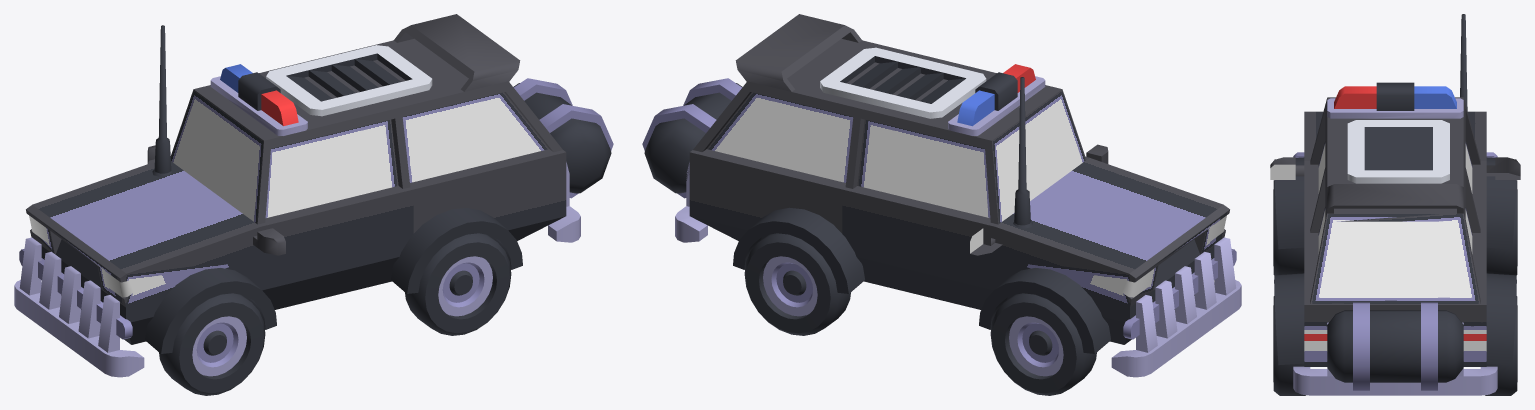
The model's file is police-suv-final.glb.
The picture shows the model from 3 angles, left to right: view 1: azimuth 30°, elevation 25°; view 2: azimuth 150°, elevation 25°; view 3: azimuth 270°, elevation 25°; orthographic projection. The views are drawn at different scales.
Parts seen in each view (by area): view 1: body, wheel-front-left, wheel-back-left; view 2: body, wheel-front-right, wheel-back-right; view 3: body, wheel-front-right, wheel-front-left, wheel-back-right, wheel-back-left.
Boxes of the visible parts, left/top/right/bottom form: body: left=14, top=14, right=613, bottom=377; wheel-front-left: left=159, top=293, right=265, bottom=395; wheel-back-left: left=405, top=233, right=511, bottom=335; body: left=642, top=14, right=1241, bottom=377; wheel-front-right: left=990, top=293, right=1096, bottom=395; wheel-back-right: left=744, top=233, right=850, bottom=335; body: left=1270, top=14, right=1520, bottom=395; wheel-front-right: left=1486, top=180, right=1517, bottom=275; wheel-front-left: left=1273, top=180, right=1304, bottom=275; wheel-back-right: left=1485, top=296, right=1517, bottom=395; wheel-back-left: left=1273, top=296, right=1305, bottom=395.
Size of the model in its own units: 3.48 by 1.81 by 1.47.
1 material, 1 textured.
